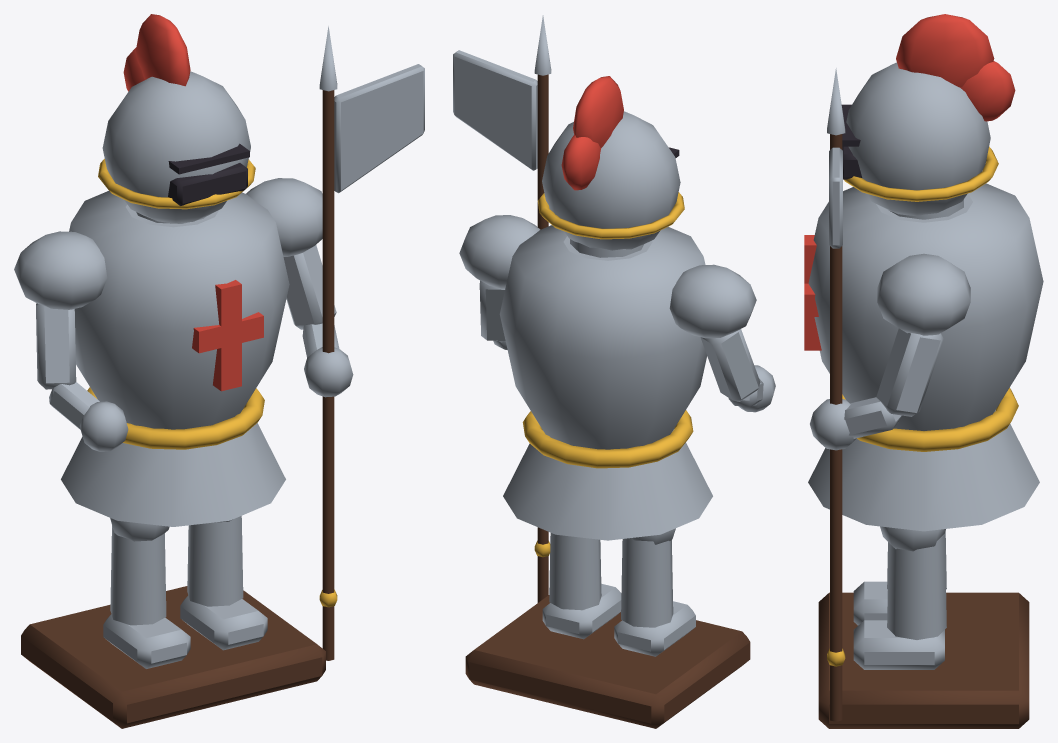
File: suit_of_armour.glb
The picture shows the model from 3 angles, left to right: view 1: azimuth 30°, elevation 25°; view 2: azimuth 150°, elevation 25°; view 3: azimuth 270°, elevation 25°; orthographic projection. The views are drawn at different scales.
Visible parts, largest first — view 1: suit_of_armour; view 2: suit_of_armour; view 3: suit_of_armour.
Part boxes in pixels (<box>): suit_of_armour: <box>14,14,424,728</box>; suit_of_armour: <box>453,15,775,728</box>; suit_of_armour: <box>804,14,1043,728</box>.
Size of the model in its own units: 1.22 by 2.1 by 0.68.
